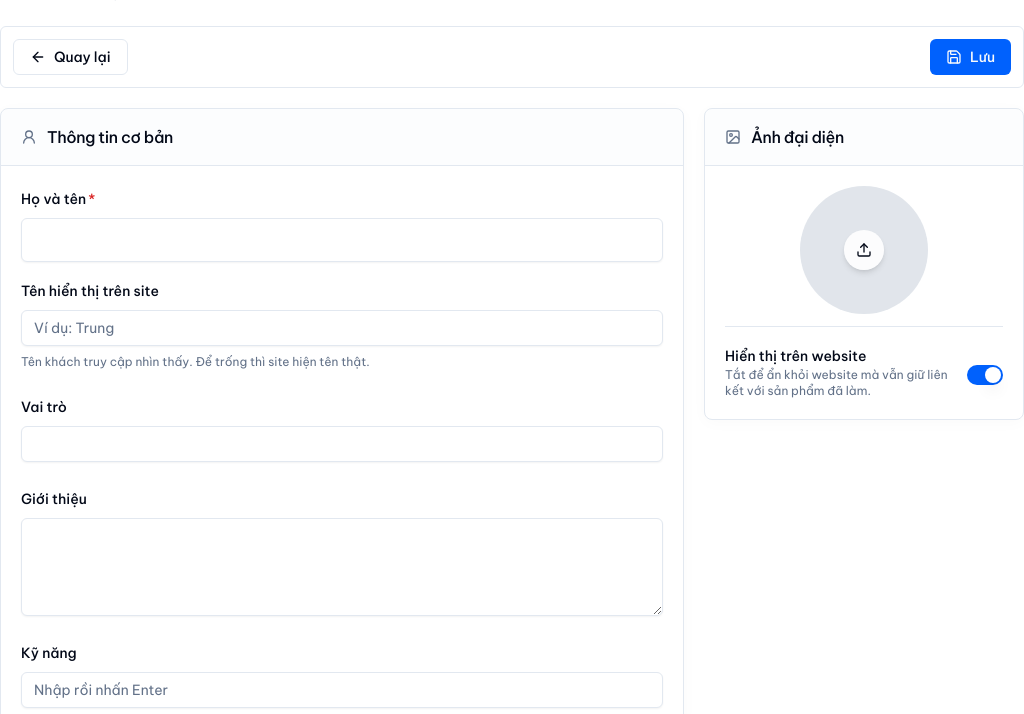
MemberEditor › refuses a javascript: link before it reaches the server
The width and height of the screenshot is (1024, 714).
In the field labelled "Họ và tên*": (342, 240) [21,218,663,262], type "Test"
(page scrolled)
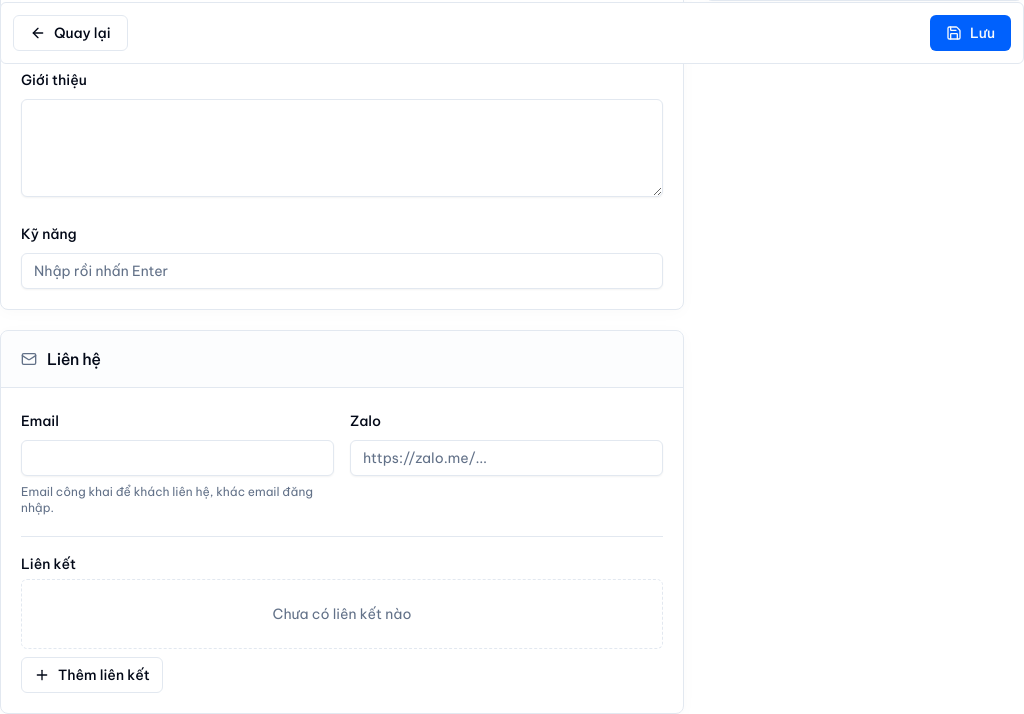
Click the button "Thêm liên kết": (92, 675) [21,657,163,693]
(page scrolled)
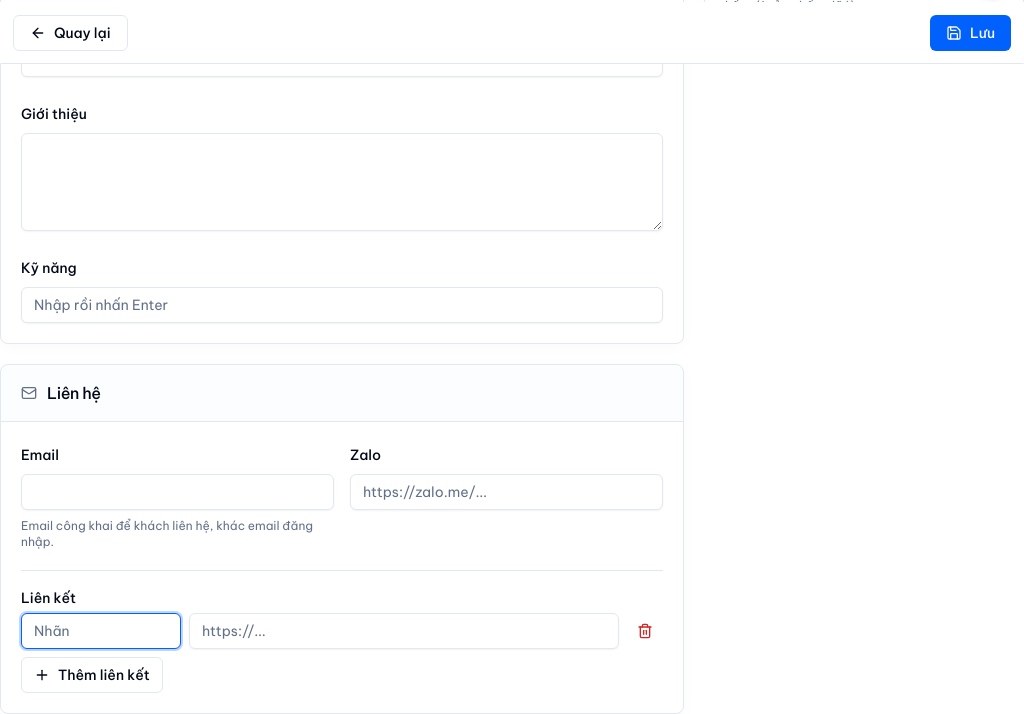
In the field with placeholder "Nhãn": (101, 631) [21,613,181,649], type "Evil"
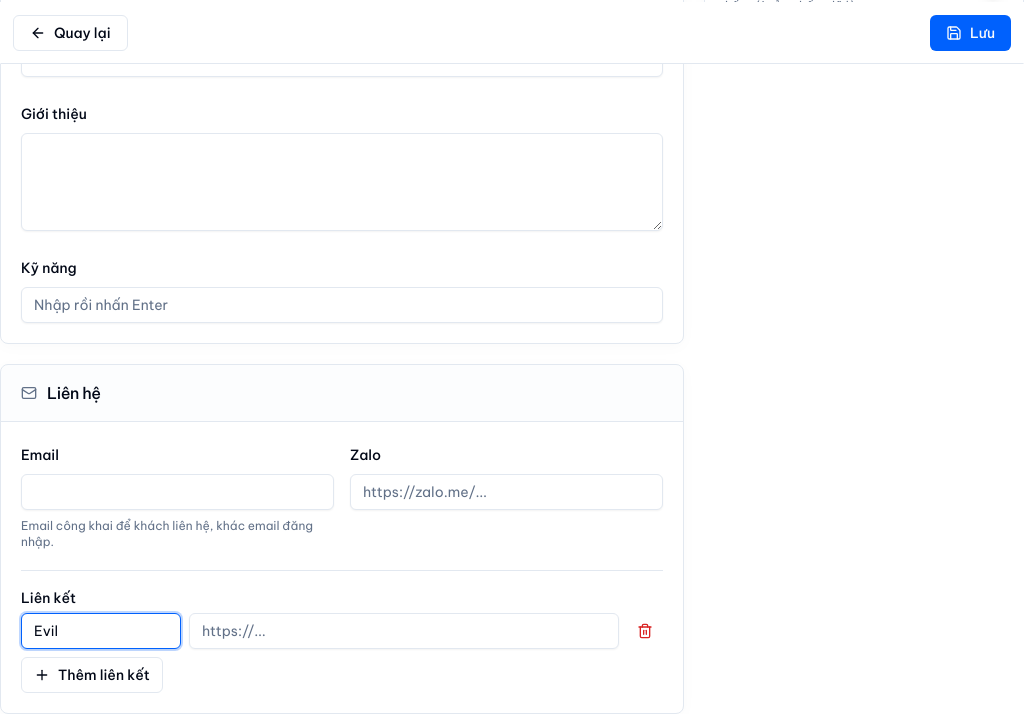
In the field with placeholder "https://...": (404, 631) [189,613,619,649], type "javascript:alert(1)"
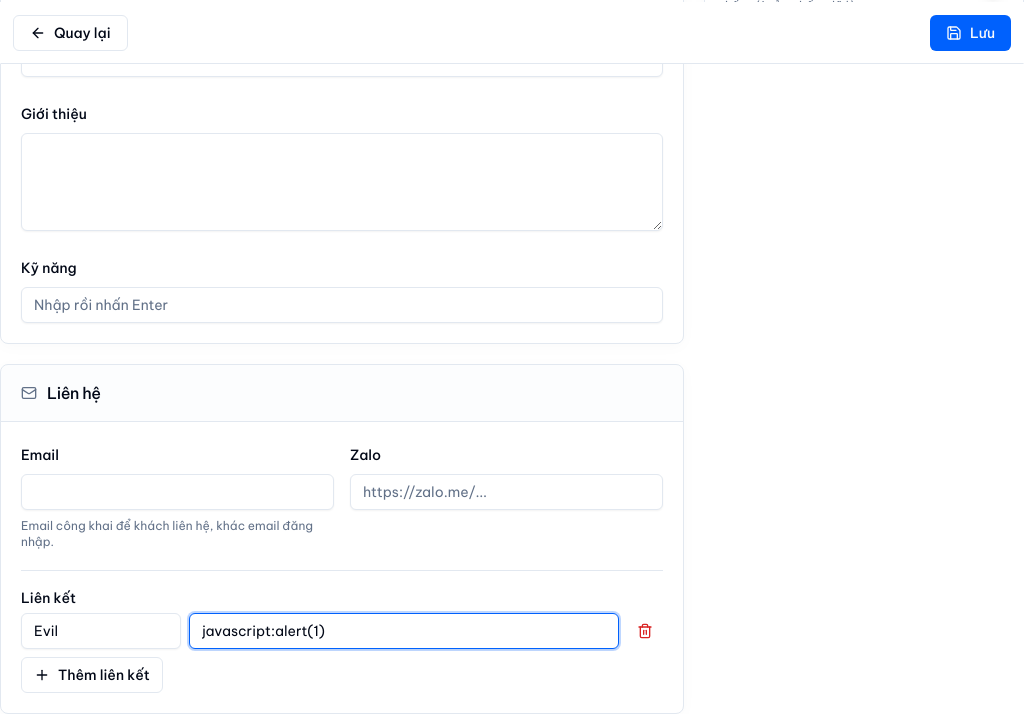
Click the button "Lưu": (970, 33) [930,15,1011,51]
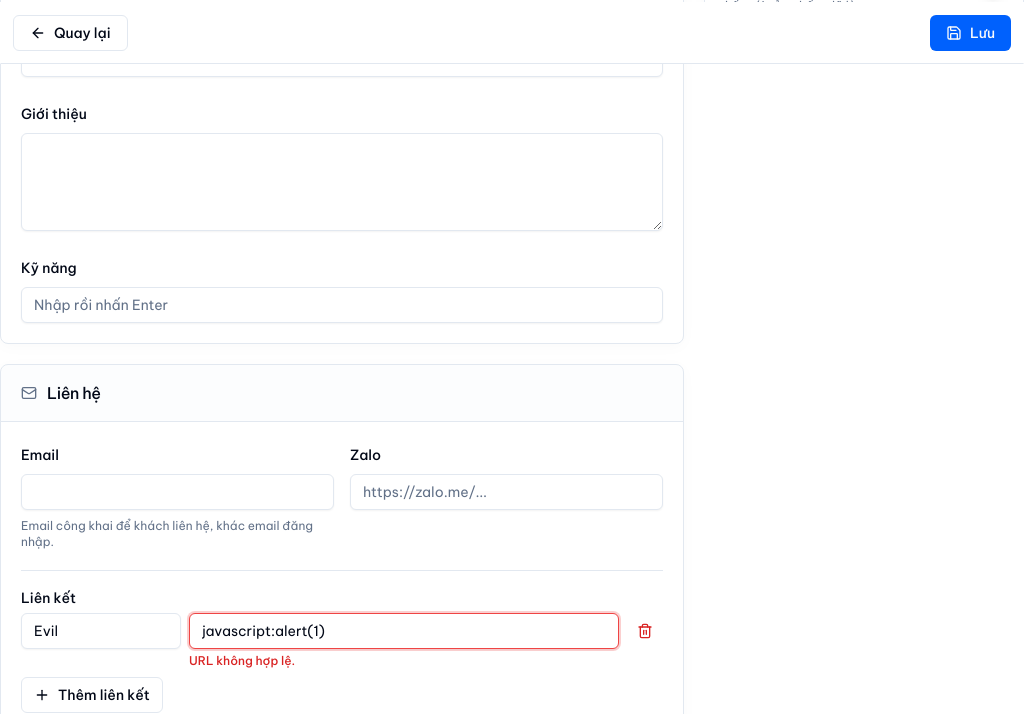
Now the text "URL không hợp lệ." is shown, box [189,653,295,668]
